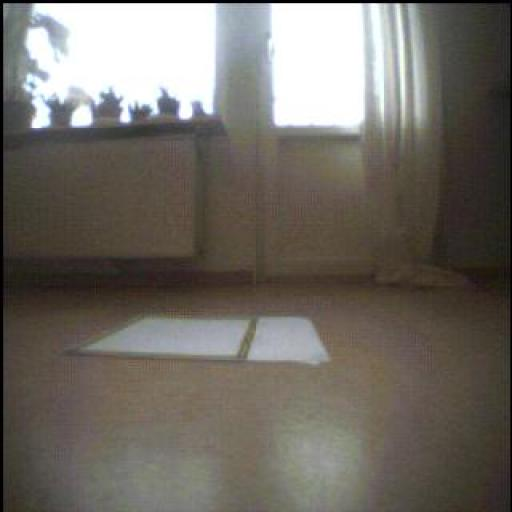Pad: (70, 318, 331, 366)
